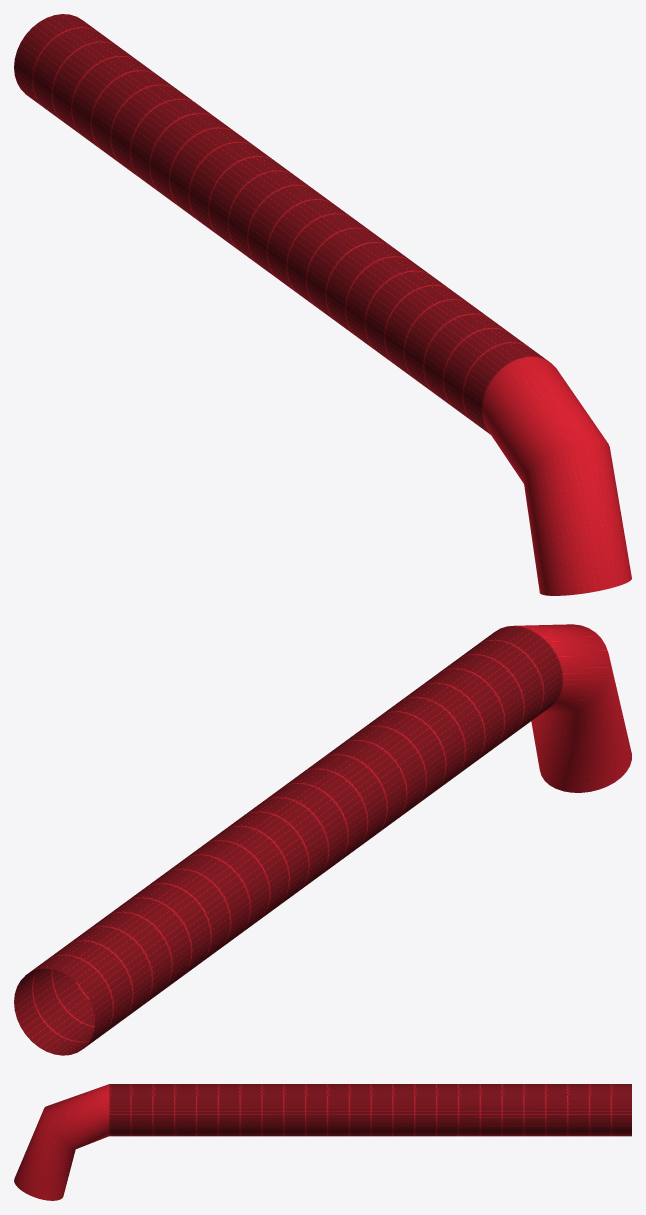
File: battle_background.fbx
3 views of the same model, one above another, from view 1: azimuth 30°, elevation 25°; view 2: azimuth 150°, elevation 25°; view 3: azimuth 270°, elevation 25° (orthographic). The views are drawn at different scales.
Parts seen in each view (by area): view 1: Cylinder; view 2: Cylinder; view 3: Cylinder.
Boxes of the visible parts, x1=… form: Cylinder: x1=14, y1=14, x2=631, y2=595; Cylinder: x1=14, y1=624, x2=631, y2=1055; Cylinder: x1=14, y1=1084, x2=631, y2=1200.
Bounding box in the file's own units: 200 × 458 × 2364.
